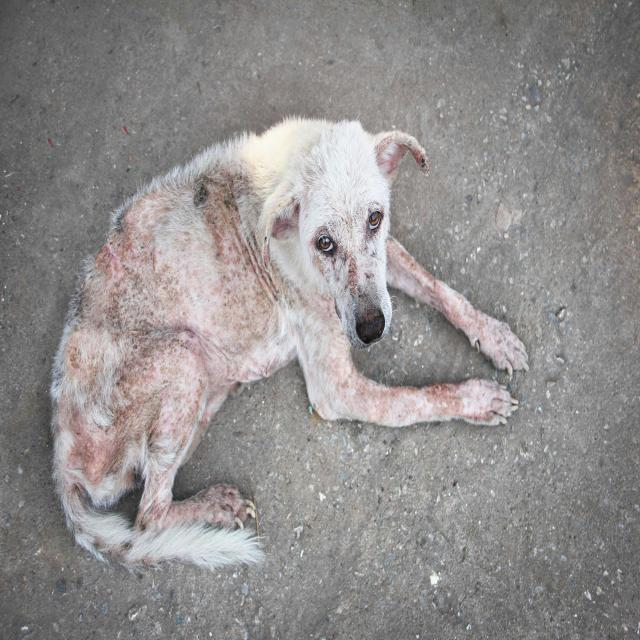fungal infection: (101, 200, 230, 340), (55, 333, 128, 482), (126, 344, 200, 434), (224, 227, 272, 341), (362, 380, 465, 420), (69, 517, 138, 561), (478, 311, 520, 370), (196, 172, 247, 214), (467, 376, 512, 423), (202, 480, 245, 527), (167, 500, 237, 527), (400, 246, 436, 298), (318, 317, 339, 400), (438, 280, 471, 323), (140, 483, 168, 532), (332, 208, 365, 243), (342, 252, 365, 293), (313, 251, 344, 281)
